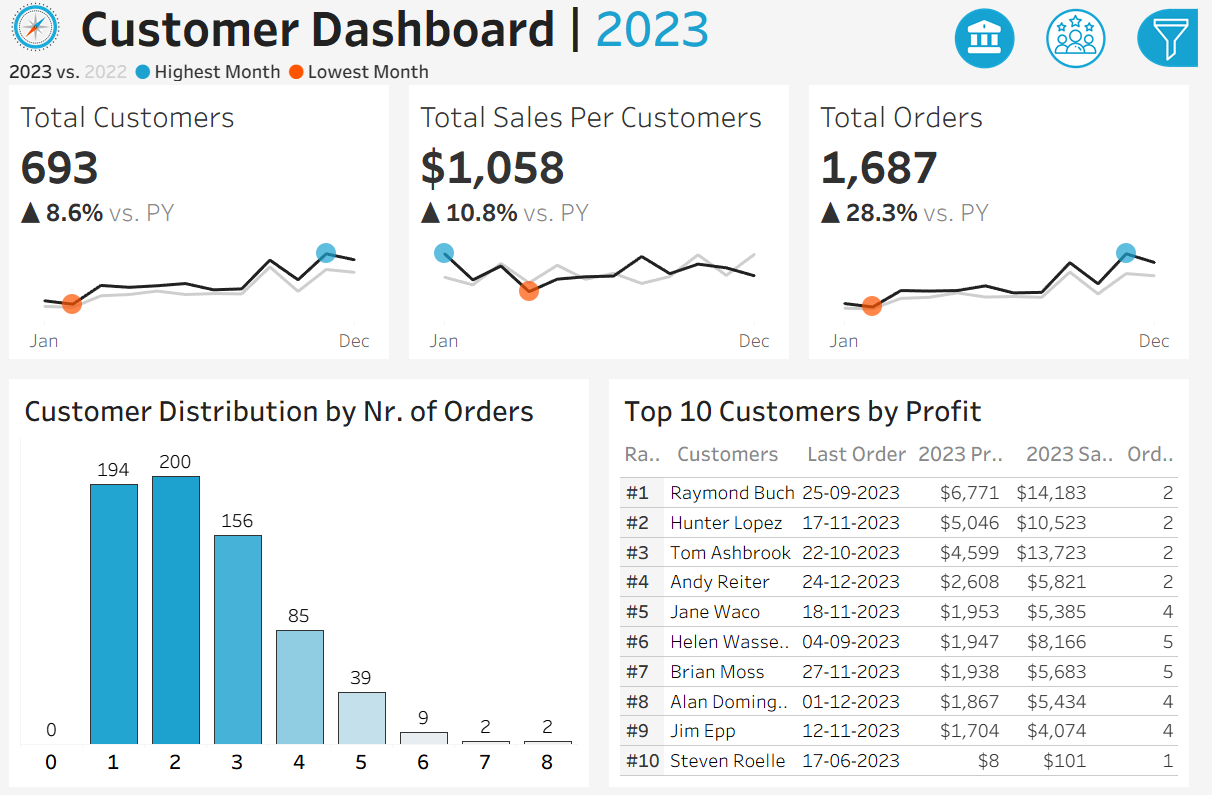

This screenshot's page, from the dashboard's own definition file:
{"tool":"tableau","page":{"name":"Customer Dashboard","canvas":[1200,800],"ordinal":0},"visuals":[{"type":"image","param":"Image/Icon - Logo.png","box":[0,0,73,59]},{"type":"text","box":[73,0,820,59]},{"type":"dashboard-object","box":[940,6,91,70]},{"type":"dashboard-object","box":[1031,6,91,70]},{"type":"blank","box":[952,10,237,86]},{"type":"worksheet","title":"Legend KPI","mark":"Automatic","box":[0,59,1200,29]},{"type":"worksheet","title":"KPI Customers","mark":"Automatic","rows":["Min/Max Quantity (copy)_3221481164588691468"],"cols":["Order Date"],"box":[0,88,400,284]},{"type":"worksheet","title":"KPI Sales Per Customers","mark":"Automatic","rows":["Min/Max Quantity (copy)_3221481164537155591"],"cols":["Order Date"],"box":[400,88,400,284]},{"type":"worksheet","title":"KPI Orders","mark":"Automatic","rows":["Min/Max Sales (copy)_3221481164601258003"],"cols":["Order Date"],"box":[800,88,400,284]},{"type":"text","box":[952,96,237,47]},{"type":"parameter","param":"[Parameters].[Parameter 1]","box":[952,143,237,60]},{"type":"text","box":[952,203,237,39]},{"type":"filter","title":"KPI Customers","param":"[federated.1kpxa041aiai2y1cl4pui1t4eju9].[none:Category:nk]","box":[952,242,237,70]},{"type":"filter","title":"KPI Customers","param":"[federated.1kpxa041aiai2y1cl4pui1t4eju9].[none:Sub-Category:nk]","box":[952,312,237,70]},{"type":"blank","box":[952,382,237,60]},{"type":"text","box":[17,389,566,47]},{"type":"text","box":[617,389,566,47]},{"type":"worksheet","title":"Customer Distribution","mark":"Bar","rows":["CY Sales (copy)_3221481164532666369"],"cols":["Calculation_998110323739992064"],"box":[17,436,566,347]},{"type":"text","box":[617,436,53,40]},{"type":"text","box":[670,436,130,40]},{"type":"text","box":[800,436,111,40]},{"type":"text","box":[911,436,108,40]},{"type":"text","box":[1019,436,101,40]},{"type":"text","box":[1120,436,63,40]},{"type":"text","box":[952,442,237,39]},{"type":"worksheet","title":"Top Customers","mark":"Automatic","rows":["Calculation_782500491678904334","Customer Name","Order Date"],"box":[617,476,566,307]},{"type":"filter","title":"KPI Customers","param":"[federated.1kpxa041aiai2y1cl4pui1t4eju9].[none:Region:nk]","box":[952,481,237,70]},{"type":"filter","title":"KPI Customers","param":"[federated.1kpxa041aiai2y1cl4pui1t4eju9].[none:State:nk]","box":[952,551,237,70]},{"type":"filter","title":"KPI Customers","param":"[federated.1kpxa041aiai2y1cl4pui1t4eju9].[none:City:nk]","box":[952,621,237,70]}]}

Visuals, with their boxes in screenshot pixels (x1, y1, x2, y2), scaled from the page's 1200x800 canvas onto the 1212x795 screenshot:
image: {"x1": 0, "y1": 0, "x2": 74, "y2": 59}
text: {"x1": 74, "y1": 0, "x2": 902, "y2": 59}
dashboard-object: {"x1": 949, "y1": 6, "x2": 1041, "y2": 76}
dashboard-object: {"x1": 1041, "y1": 6, "x2": 1133, "y2": 76}
blank: {"x1": 962, "y1": 10, "x2": 1201, "y2": 95}
"Legend KPI" worksheet: {"x1": 0, "y1": 59, "x2": 1211, "y2": 87}
"KPI Customers" worksheet: {"x1": 0, "y1": 87, "x2": 404, "y2": 370}
"KPI Sales Per Customers" worksheet: {"x1": 404, "y1": 87, "x2": 808, "y2": 370}
"KPI Orders" worksheet: {"x1": 808, "y1": 87, "x2": 1211, "y2": 370}
text: {"x1": 962, "y1": 95, "x2": 1201, "y2": 142}
parameter: {"x1": 962, "y1": 142, "x2": 1201, "y2": 202}
text: {"x1": 962, "y1": 202, "x2": 1201, "y2": 240}
"KPI Customers" filter: {"x1": 962, "y1": 240, "x2": 1201, "y2": 310}
"KPI Customers" filter: {"x1": 962, "y1": 310, "x2": 1201, "y2": 380}
blank: {"x1": 962, "y1": 380, "x2": 1201, "y2": 439}
text: {"x1": 17, "y1": 387, "x2": 589, "y2": 433}
text: {"x1": 623, "y1": 387, "x2": 1195, "y2": 433}
"Customer Distribution" worksheet (Bar marks): {"x1": 17, "y1": 433, "x2": 589, "y2": 778}
text: {"x1": 623, "y1": 433, "x2": 677, "y2": 473}
text: {"x1": 677, "y1": 433, "x2": 808, "y2": 473}
text: {"x1": 808, "y1": 433, "x2": 920, "y2": 473}
text: {"x1": 920, "y1": 433, "x2": 1029, "y2": 473}
text: {"x1": 1029, "y1": 433, "x2": 1131, "y2": 473}
text: {"x1": 1131, "y1": 433, "x2": 1195, "y2": 473}
text: {"x1": 962, "y1": 439, "x2": 1201, "y2": 478}
"Top Customers" worksheet: {"x1": 623, "y1": 473, "x2": 1195, "y2": 778}
"KPI Customers" filter: {"x1": 962, "y1": 478, "x2": 1201, "y2": 548}
"KPI Customers" filter: {"x1": 962, "y1": 548, "x2": 1201, "y2": 617}
"KPI Customers" filter: {"x1": 962, "y1": 617, "x2": 1201, "y2": 687}
